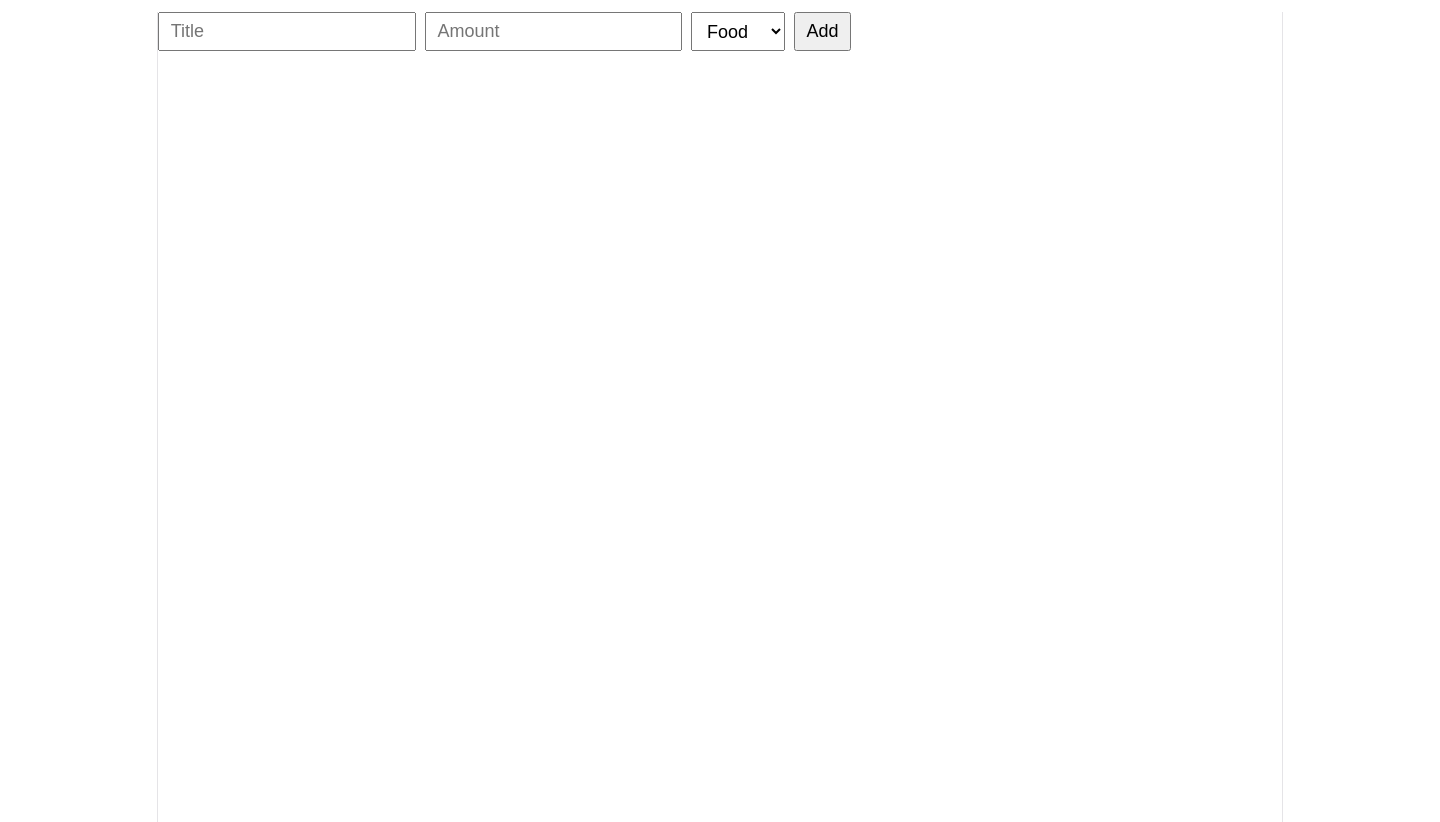
Test: ExpenseForm max amount › rejects amounts over 100000
In the field with placeholder "Title": (287, 32) x1=158 y1=12 x2=416 y2=51, type "Car"
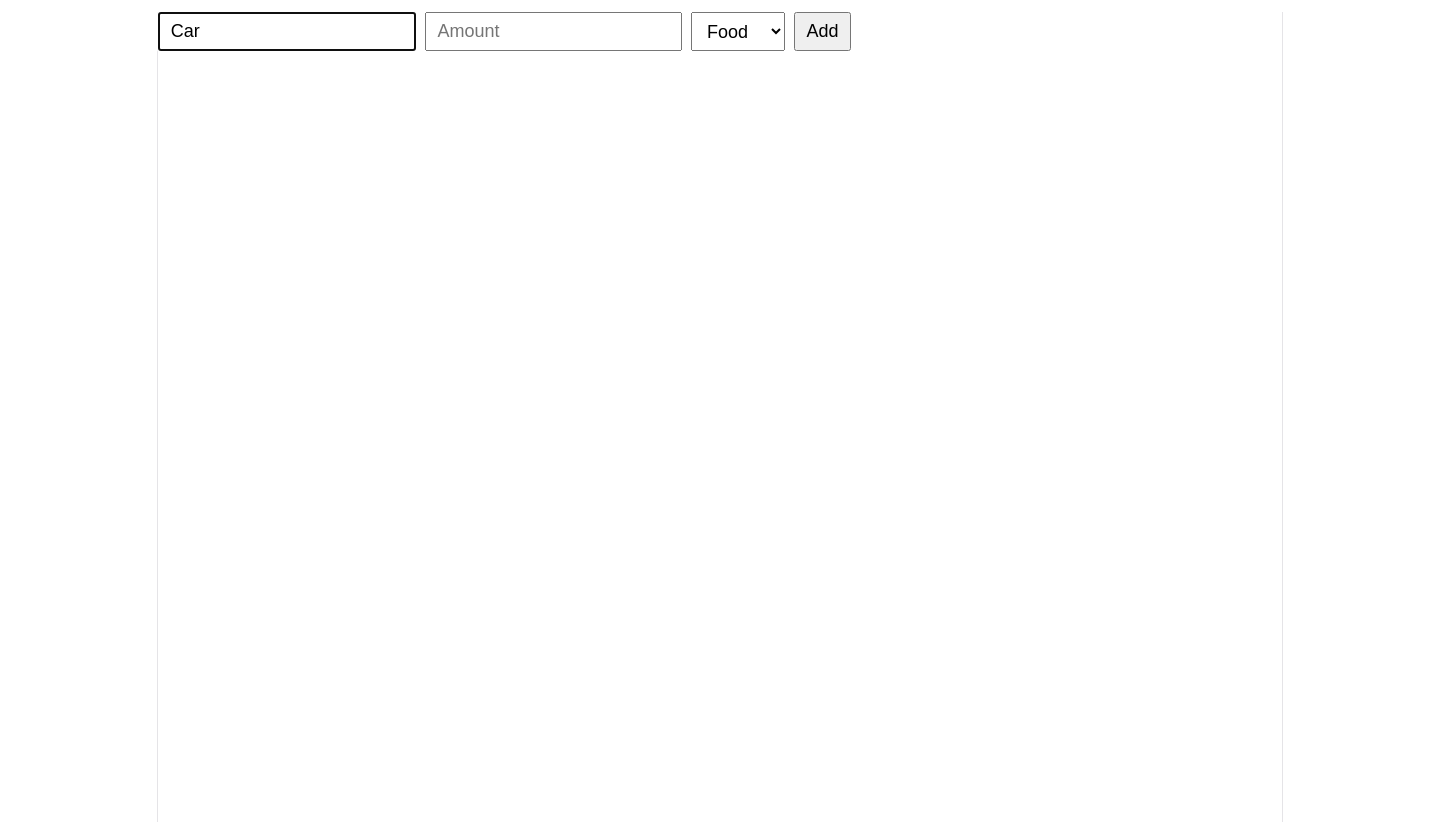
In the field with placeholder "Amount": (553, 32) x1=425 y1=12 x2=682 y2=51, type "100001"
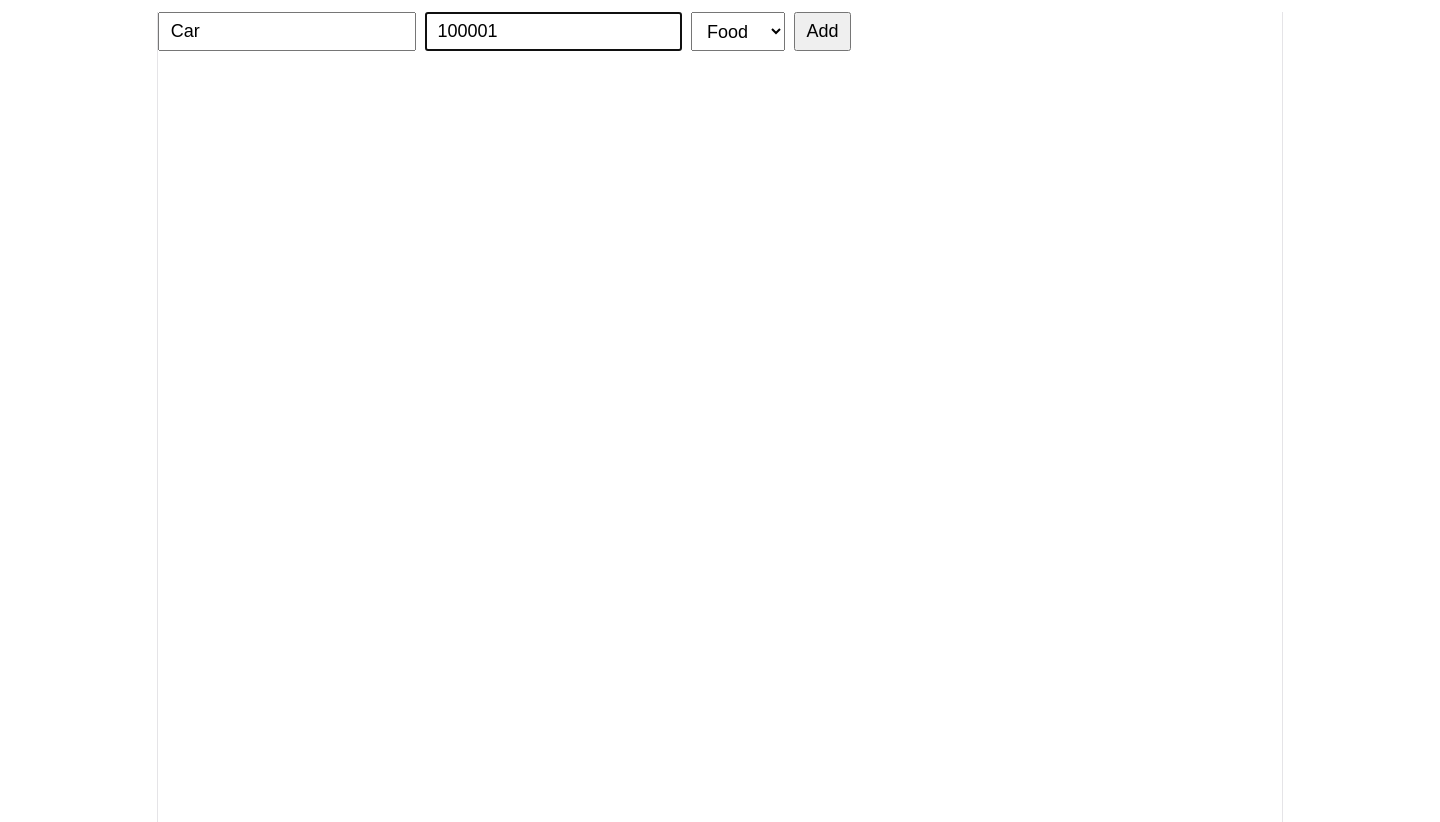
Select "Food" in the dropdown named "Category": (738, 32) x1=691 y1=12 x2=785 y2=51
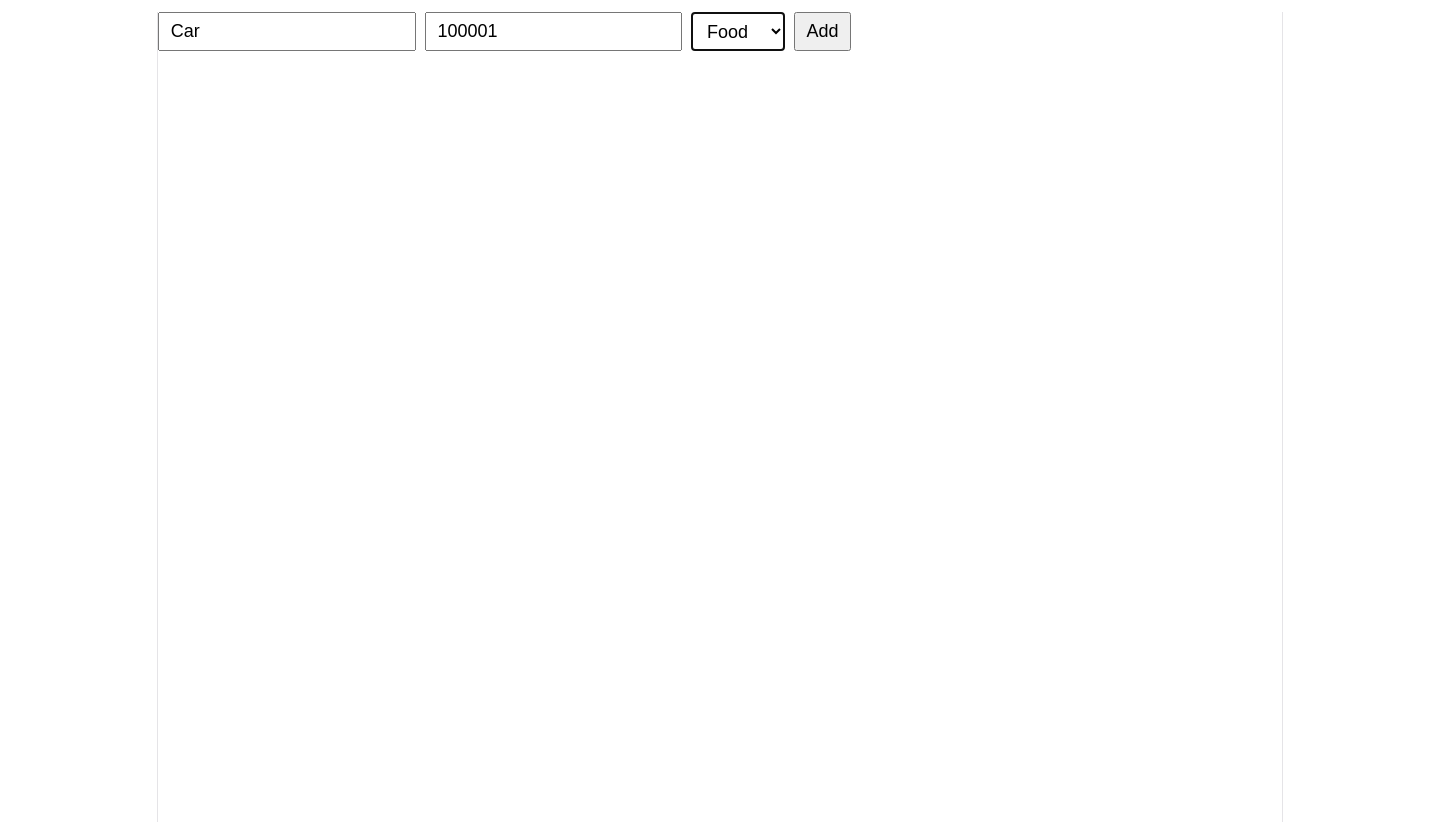
Click the button "Add": (823, 32) x1=794 y1=12 x2=851 y2=51
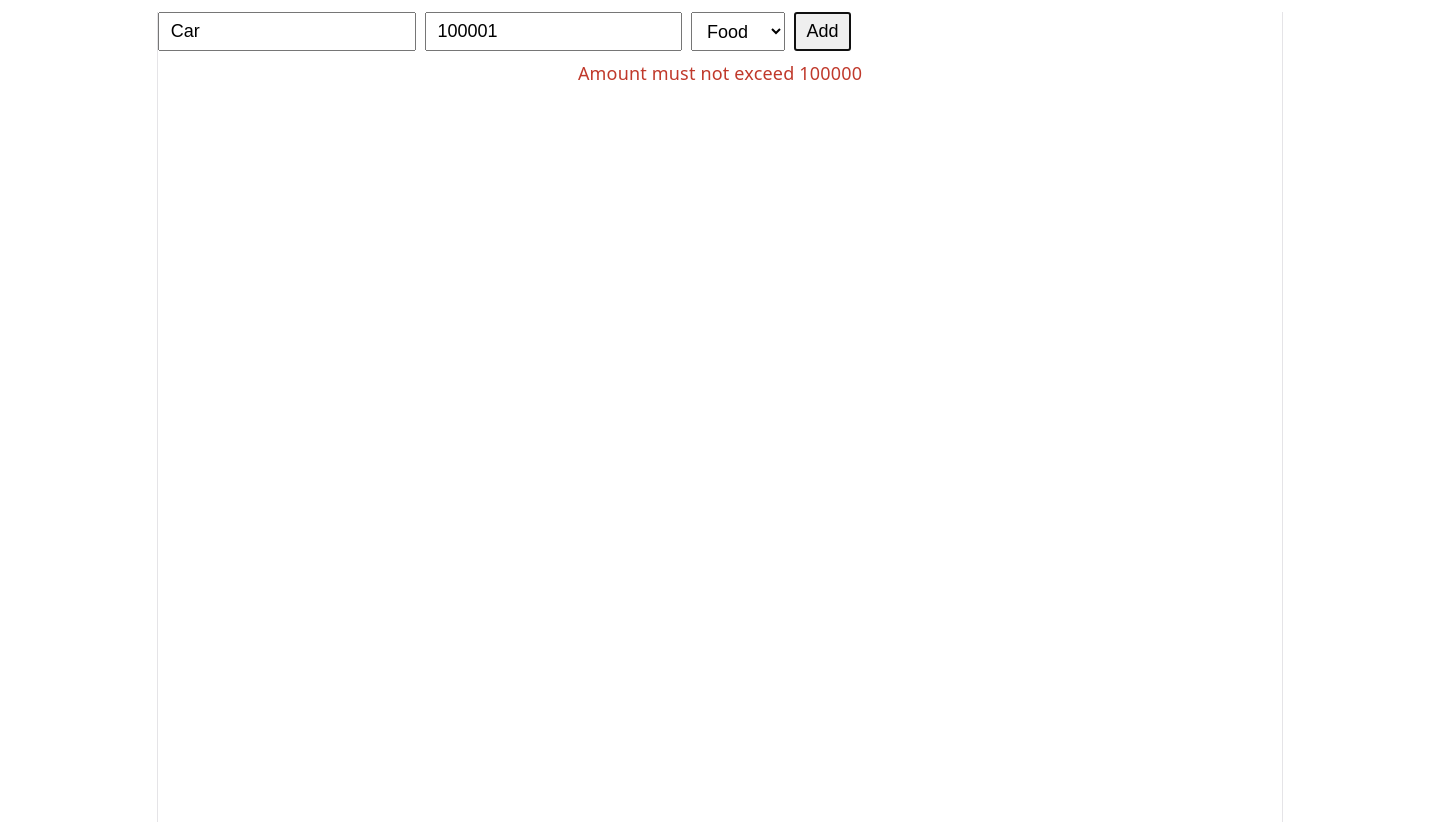
Expected: the text "Amount must not exceed 100000" is shown, x1=578 y1=61 x2=862 y2=85
